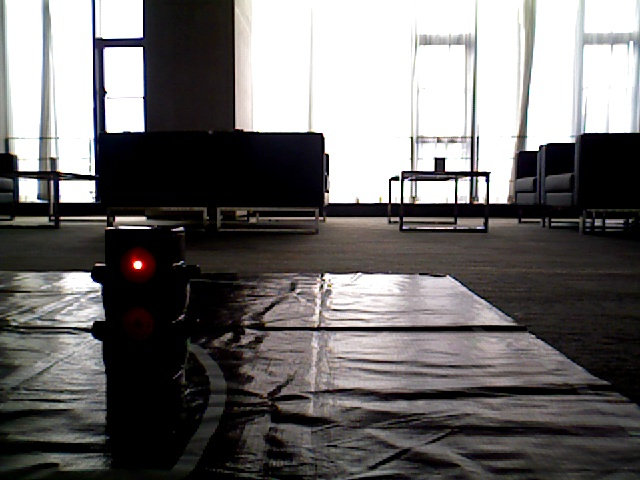red: (103, 231, 177, 379)
